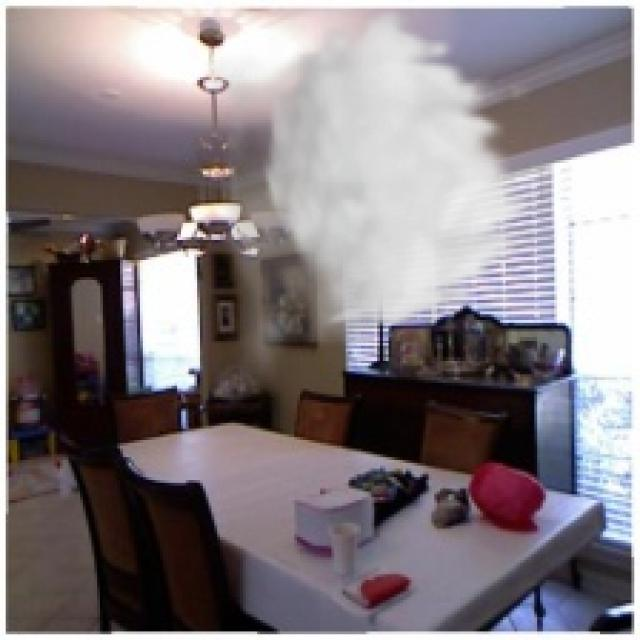smoke: (197, 6, 540, 397)
